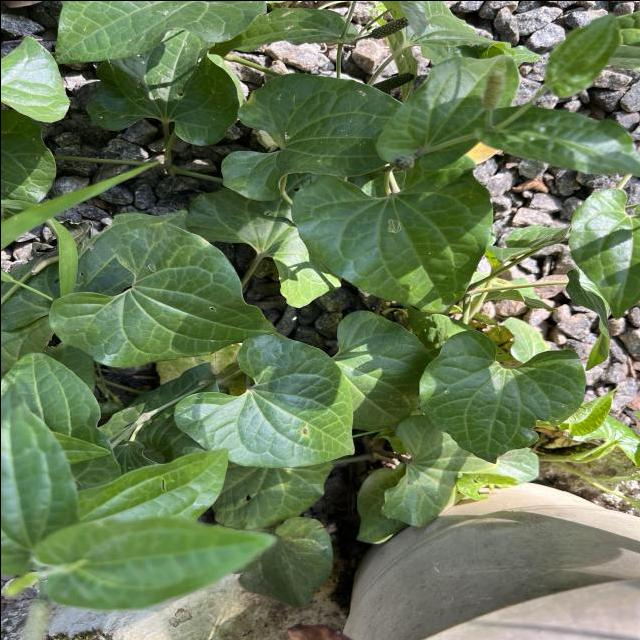Piper longum: (46, 220, 278, 368), (216, 71, 420, 202), (170, 332, 356, 469), (414, 328, 588, 466)
